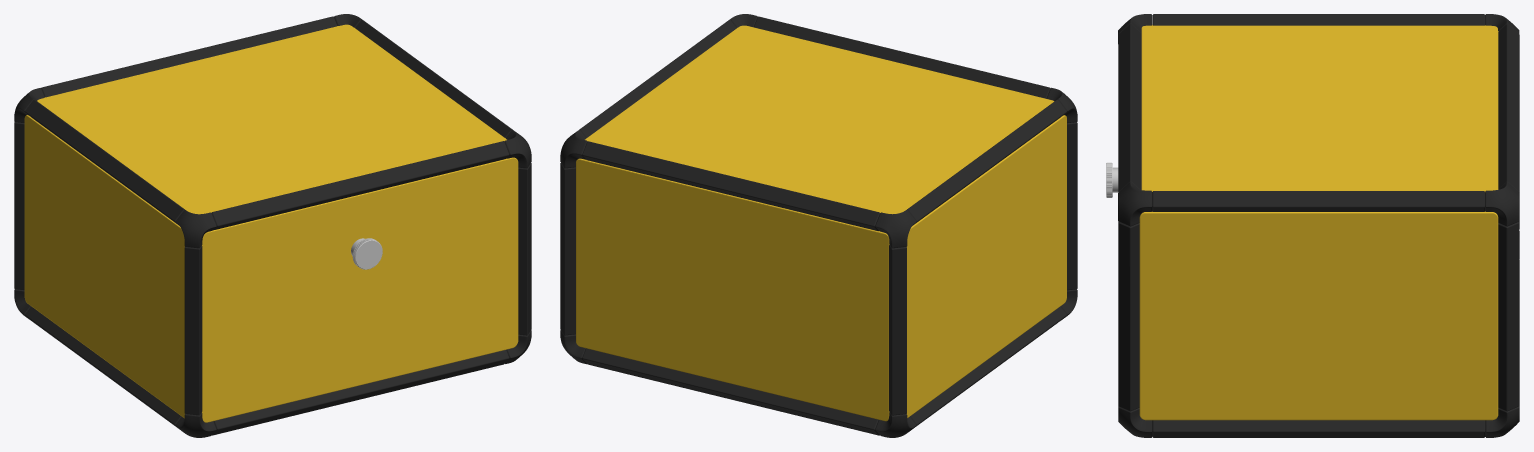
The picture shows the model from 3 angles, left to right: view 1: azimuth 30°, elevation 25°; view 2: azimuth 150°, elevation 25°; view 3: azimuth 270°, elevation 25°; orthographic projection. The views are drawn at different scales.
Parts seen in each view (by area): view 1: 420x374x229; view 2: 420x374x229; view 3: 420x374x229.
Boxes of the visible parts, x1,y1,x2,y2 form: 420x374x229: (14, 14, 531, 437); 420x374x229: (560, 14, 1077, 437); 420x374x229: (1106, 14, 1519, 437).
Size of the model in its own units: 0.4977 by 0.3066 by 0.4646.
